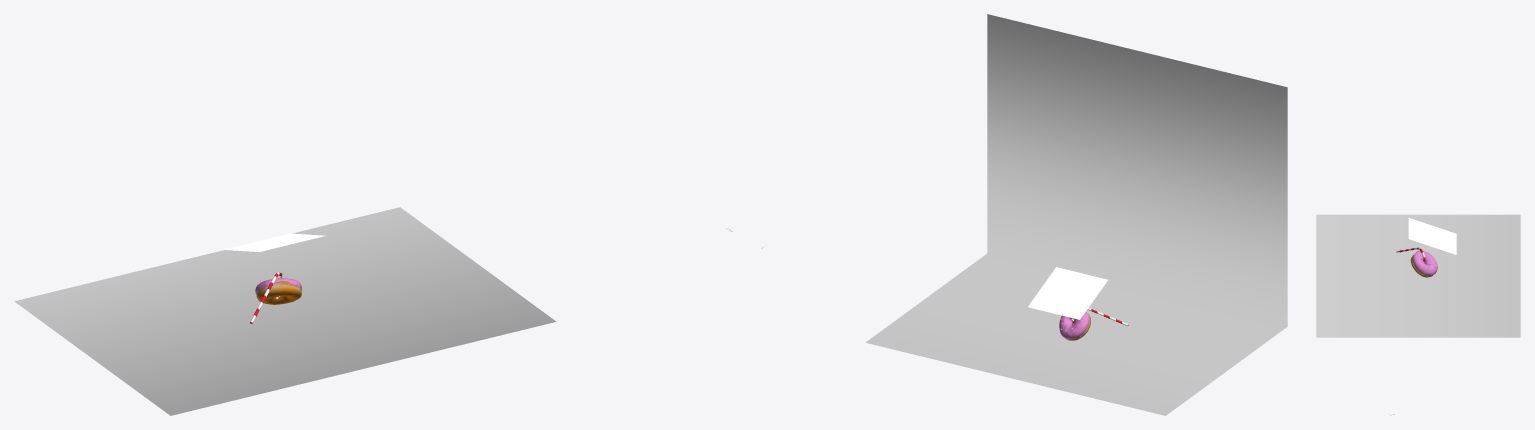
The model's file is donut1.1d04ef89.glb.
3 views of the same model, side by side, from view 1: azimuth 30°, elevation 25°; view 2: azimuth 150°, elevation 25°; view 3: azimuth 270°, elevation 25° (orthographic). The views are drawn at different scales.
Parts seen in each view (by area): view 1: Plane, Plane.002, Donut; view 2: Plane, Plane.002, sos; view 3: Plane, Plane.002, sos.
Part boxes in pixels (left/top/right/bottom): Plane: left=14, top=207, right=556, bottom=415; Plane.002: left=223, top=233, right=325, bottom=251; Donut: left=256, top=281, right=301, bottom=304; Plane: left=866, top=14, right=1287, bottom=415; Plane.002: left=1028, top=267, right=1108, bottom=319; sos: left=1059, top=311, right=1089, bottom=339; Plane: left=1316, top=214, right=1520, bottom=337; Plane.002: left=1408, top=218, right=1456, bottom=254; sos: left=1412, top=250, right=1437, bottom=275.
Bounding box in the file's own units: 11.33 × 5.52 × 4.97.
Materials: 17 (1 with a texture image).
